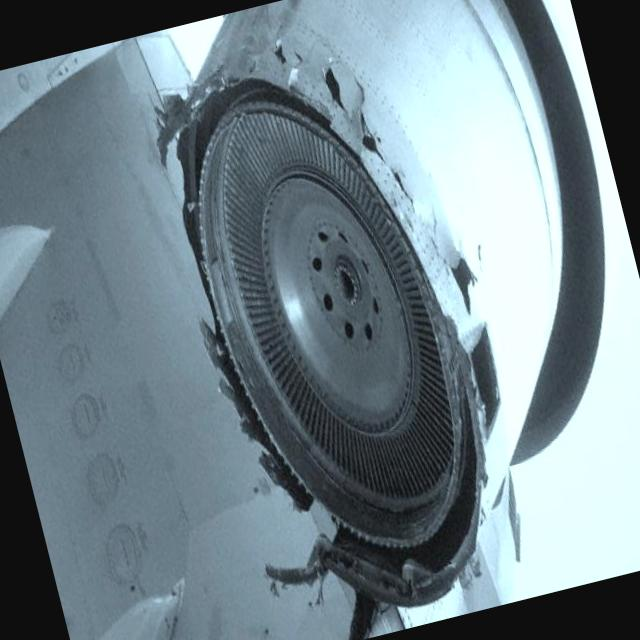crack: (142, 85, 318, 599), (266, 9, 491, 357)
